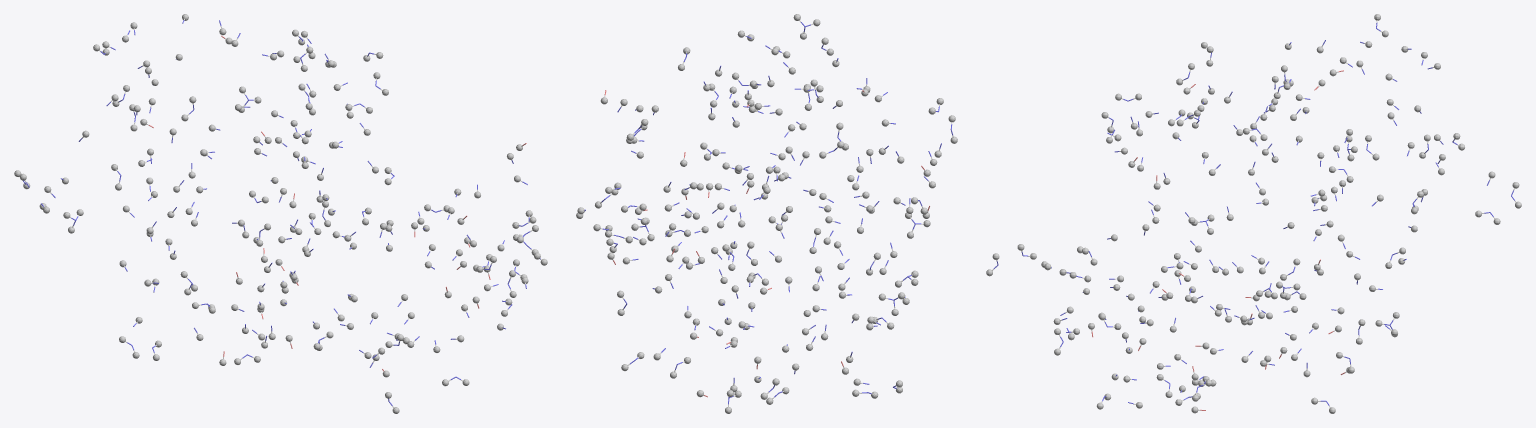
Rendered from 1lyz__ball_and_stick__default__H.glb.
The picture shows the model from 3 angles, left to right: view 1: azimuth 30°, elevation 25°; view 2: azimuth 150°, elevation 25°; view 3: azimuth 270°, elevation 25°; orthographic projection. The views are drawn at different scales.
Parts seen in each view (by area): view 1: Renderer Node; view 2: Renderer Node; view 3: Renderer Node.
Part boxes in pixels (x1,y1,x2,y2): Renderer Node: (14,14,547,413); Renderer Node: (576,14,957,413); Renderer Node: (986,14,1521,413).
Bounding box in the file's own units: 38.43 × 31.65 × 46.05.
